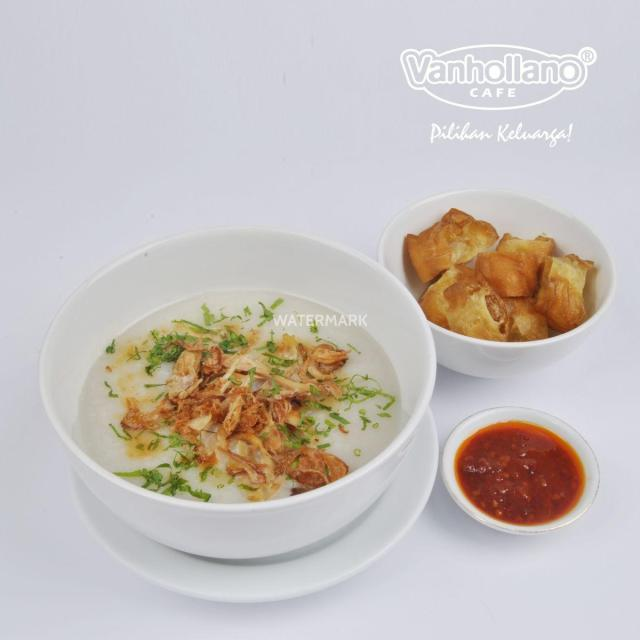bubur ayam: (79, 286, 405, 504)
mangkuk: (37, 226, 437, 564), (377, 188, 618, 382), (439, 405, 602, 536)
sambal: (454, 420, 589, 524)
